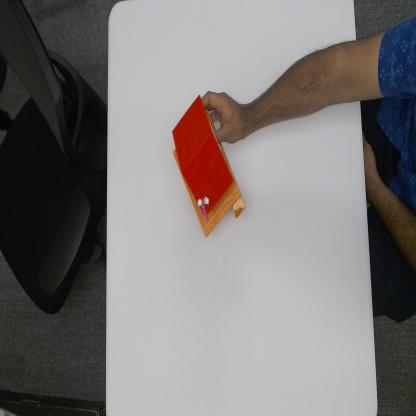Arm: (250, 42, 362, 141)
Hand: (198, 88, 250, 147)
House: (169, 98, 244, 239)
